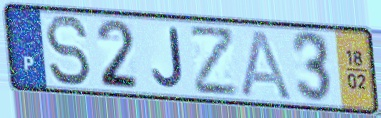2: (94, 17, 140, 93)
3: (292, 28, 332, 106)
A: (239, 27, 295, 103)
J: (150, 26, 186, 91)
S: (42, 14, 93, 89)
Z: (187, 26, 240, 98)
